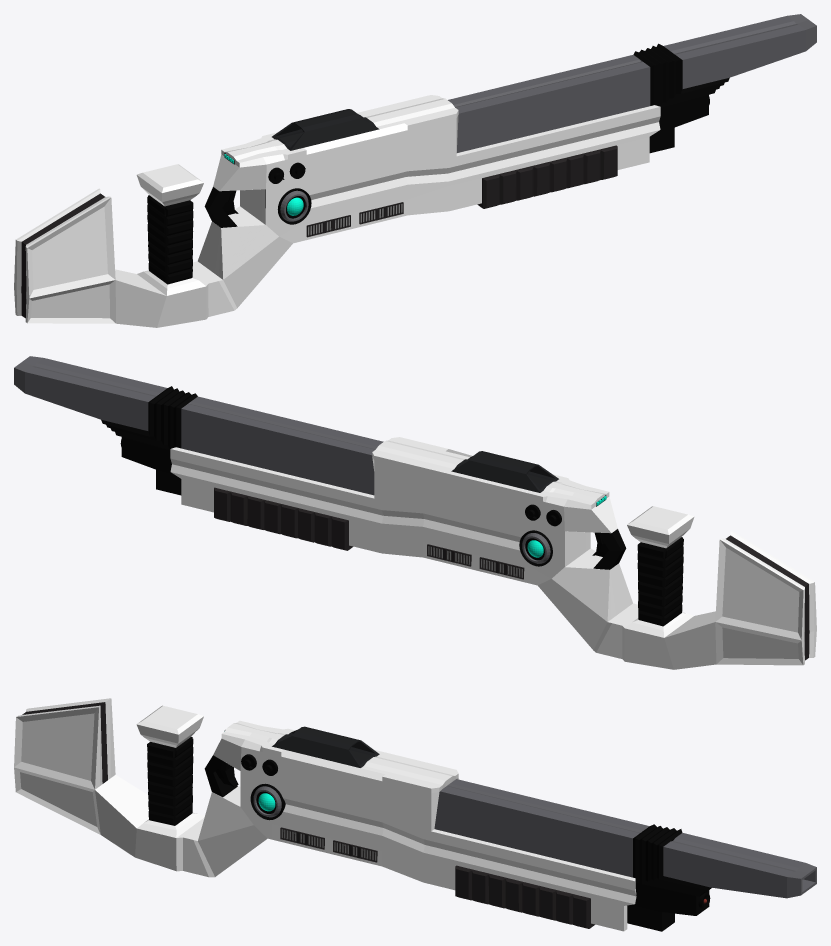
Rendered from sniper Fagerone.fbx.
3 views of the same model, one above another, from view 1: azimuth 30°, elevation 25°; view 2: azimuth 150°, elevation 25°; view 3: azimuth 330°, elevation 25° (orthographic).
Visible parts, largest first — view 1: Cube; view 2: Cube; view 3: Cube.
Part boxes in pixels (x1,y1,x2,y2): Cube: (14, 14, 816, 327); Cube: (14, 356, 816, 669); Cube: (14, 698, 816, 931).
Size of the model in its own units: 8.62 by 1.64 by 0.6447.
Materials: 3 (3 with a texture image).
